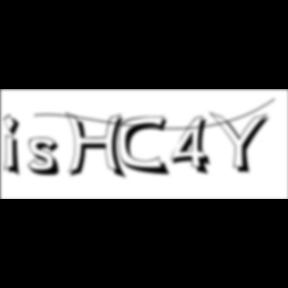4: (171, 115, 218, 179)
C: (118, 115, 174, 178)
H: (66, 112, 132, 182)
Y: (208, 110, 276, 176)
i: (4, 112, 28, 180)
s: (28, 137, 68, 179)
